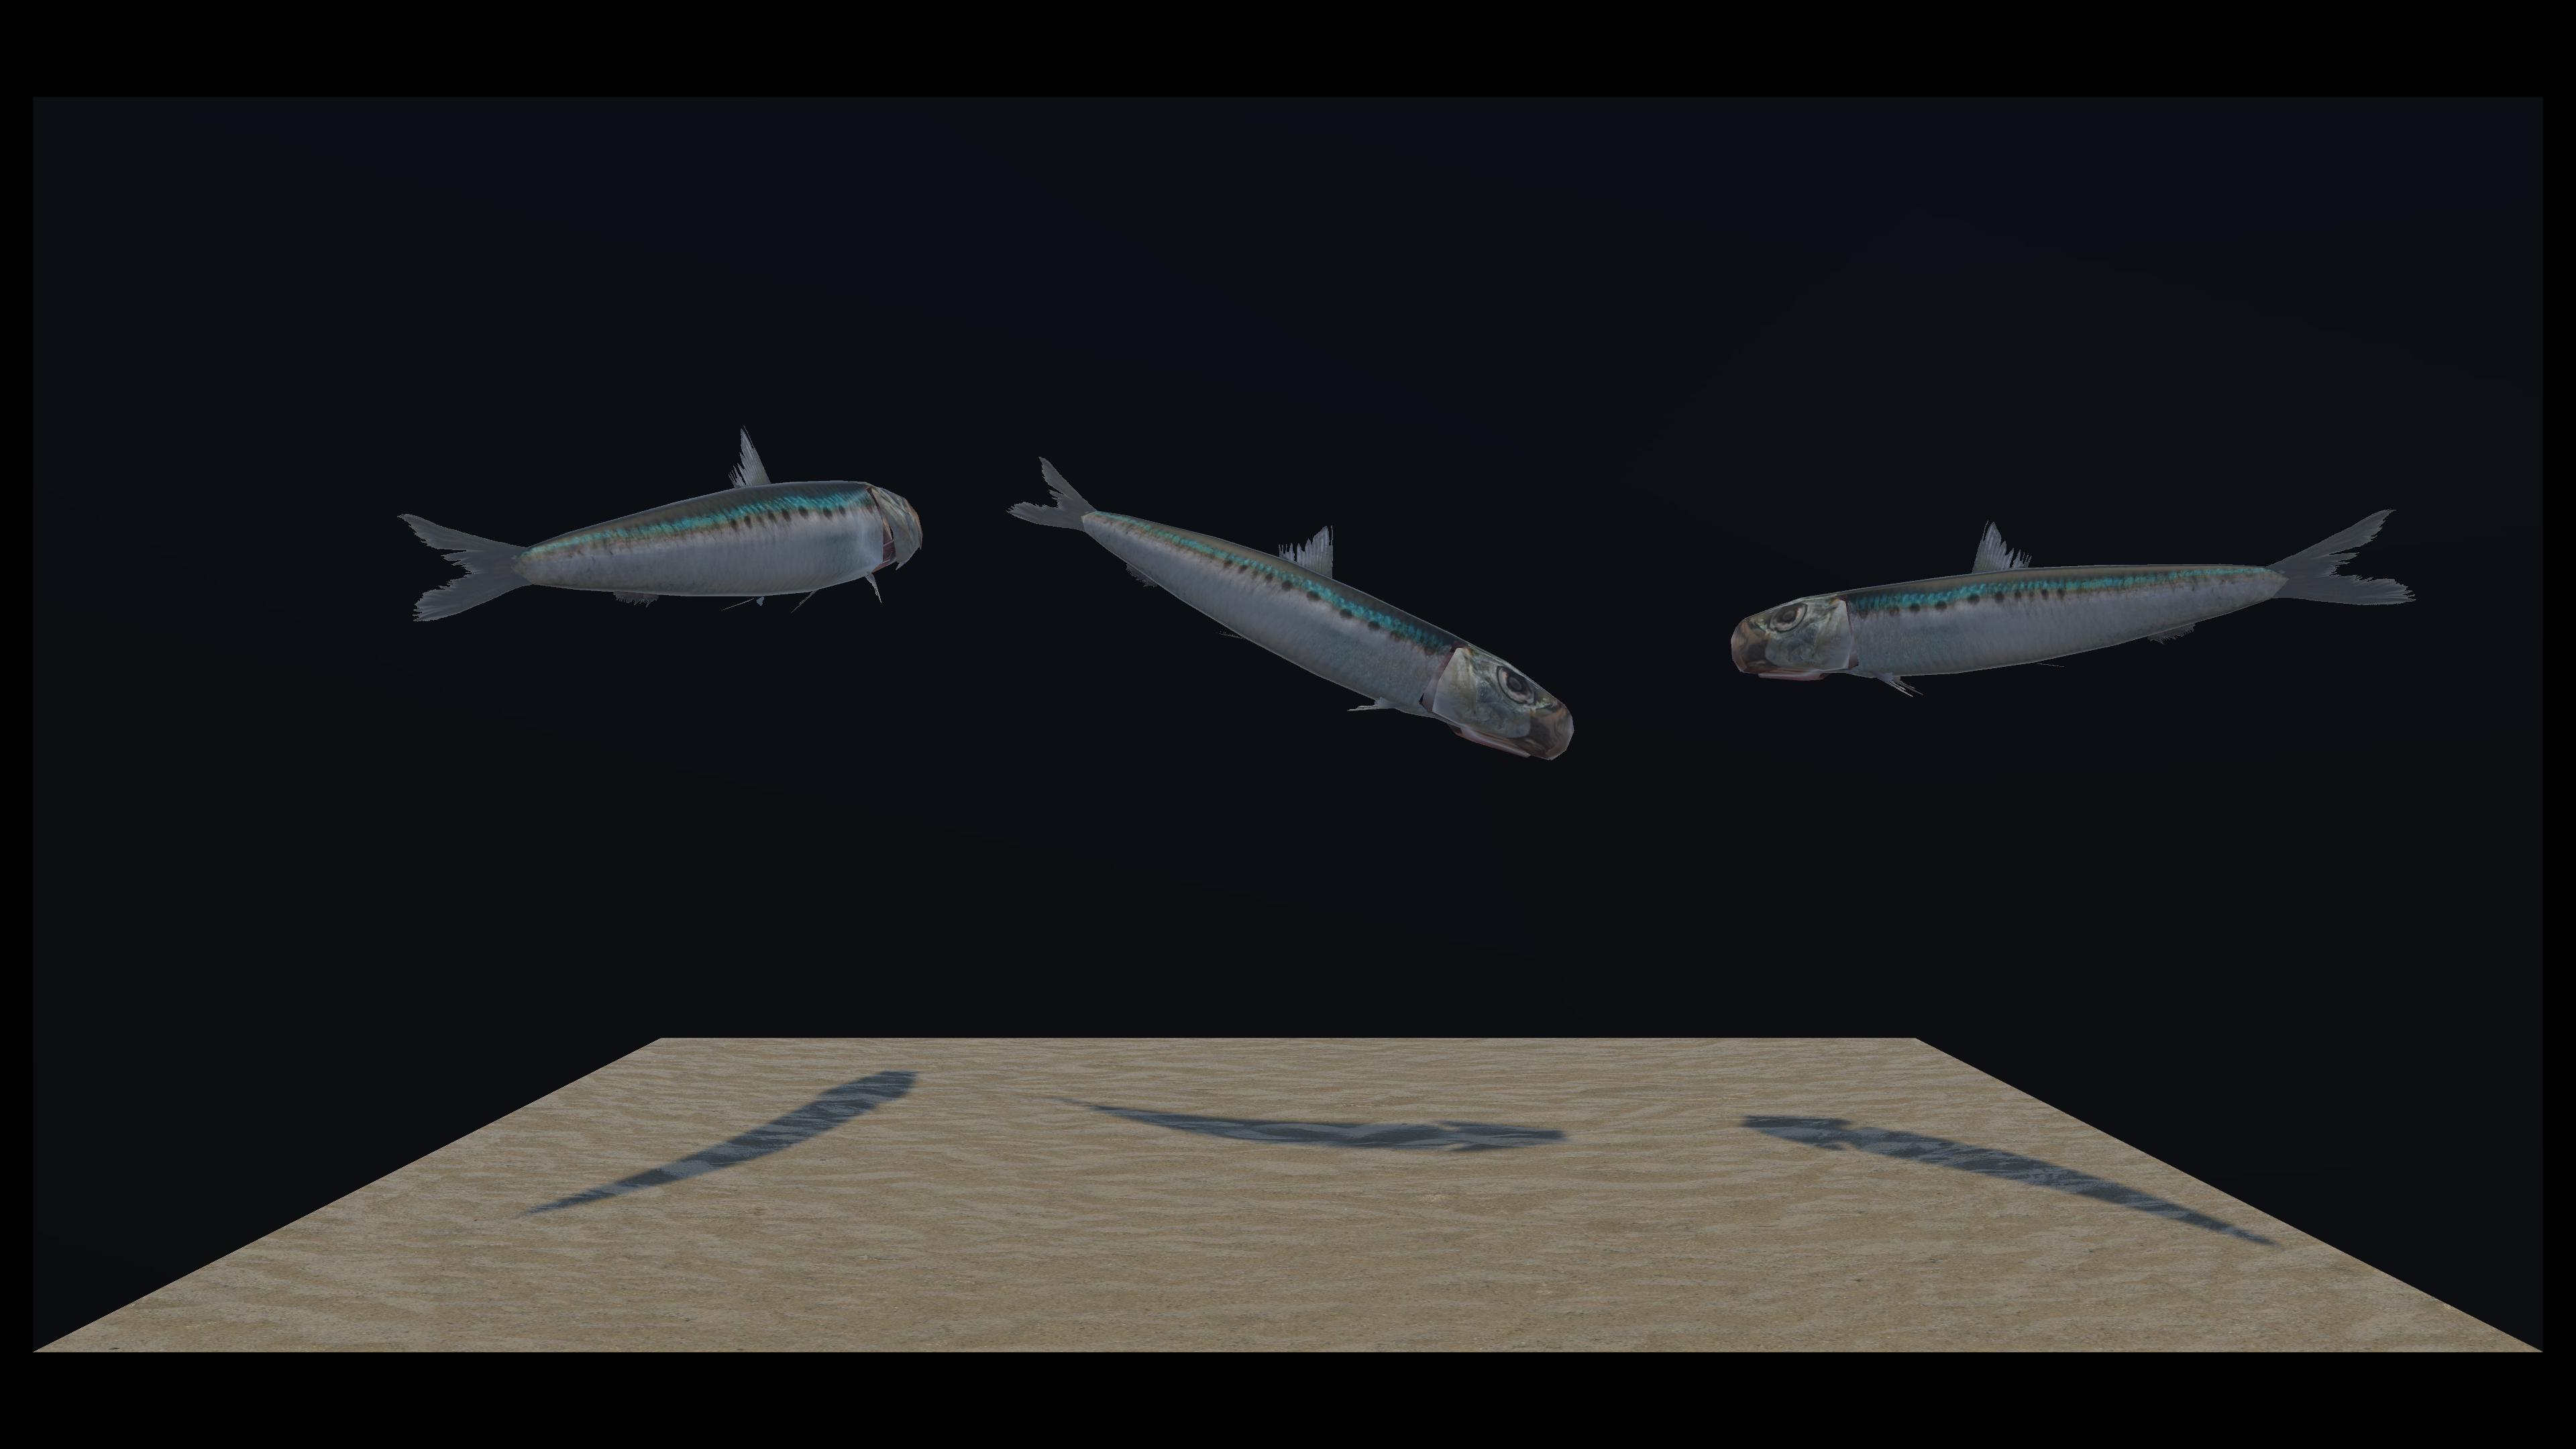Sardine_Front: (927, 287, 2411, 708), (782, 456, 1562, 724), (412, 442, 893, 619)
